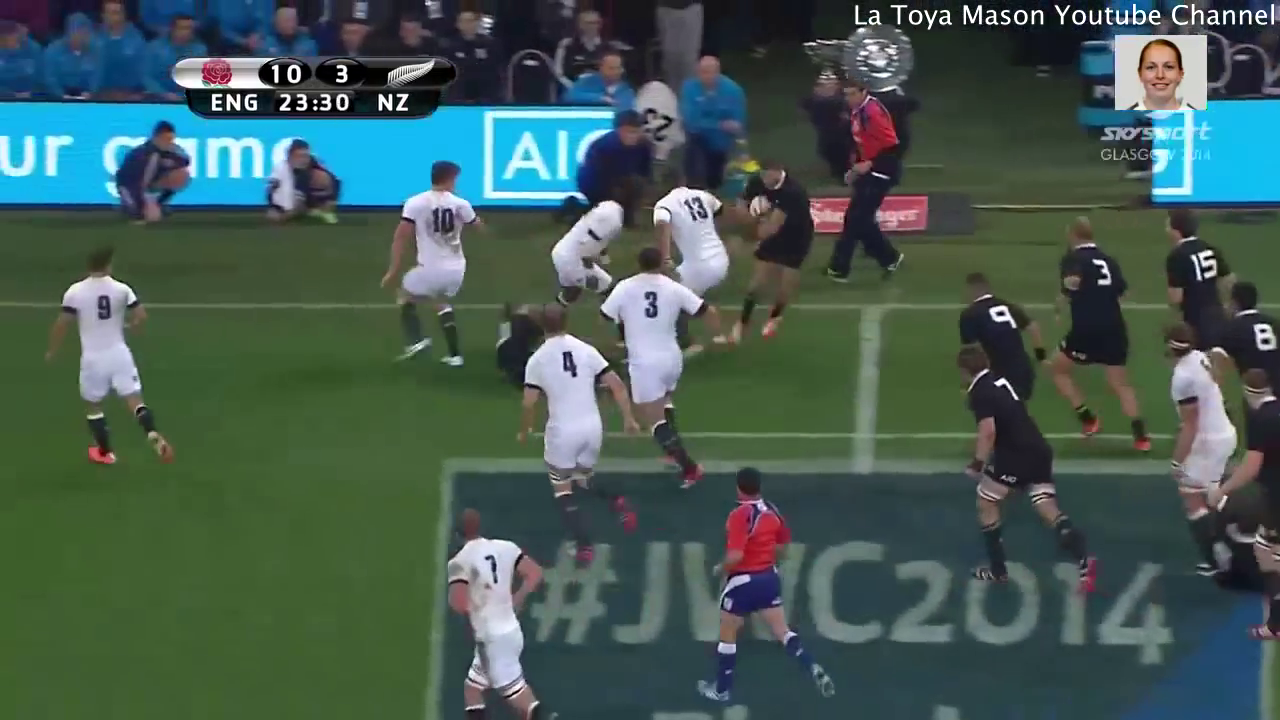player: (938, 341, 1108, 600), (493, 291, 648, 556), (697, 455, 851, 720), (46, 238, 191, 469), (433, 504, 579, 720), (1025, 212, 1143, 470), (597, 248, 715, 491), (377, 152, 480, 361), (1152, 323, 1231, 571), (1216, 368, 1280, 654), (730, 159, 813, 348), (944, 261, 1043, 381), (551, 179, 640, 311), (1145, 204, 1234, 324), (656, 170, 737, 292), (1212, 277, 1280, 359)
